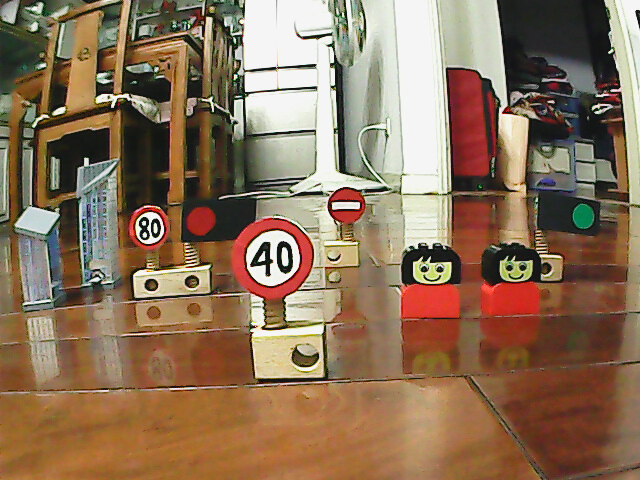Green Traffic Light: (566, 197, 600, 236)
Person: (397, 240, 464, 321), (478, 237, 544, 319)
Red Traffic Light: (180, 195, 222, 242)
Speed Limit 40: (228, 212, 317, 303)
Speed Limit 80: (126, 201, 172, 253)
Stop Sign: (325, 184, 370, 226)
